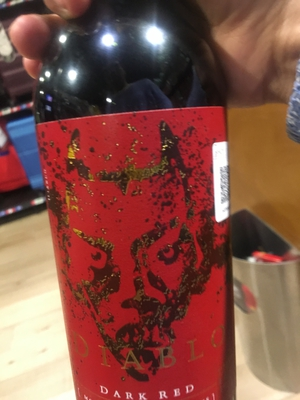diablo dark red: (30, 25, 240, 400)
